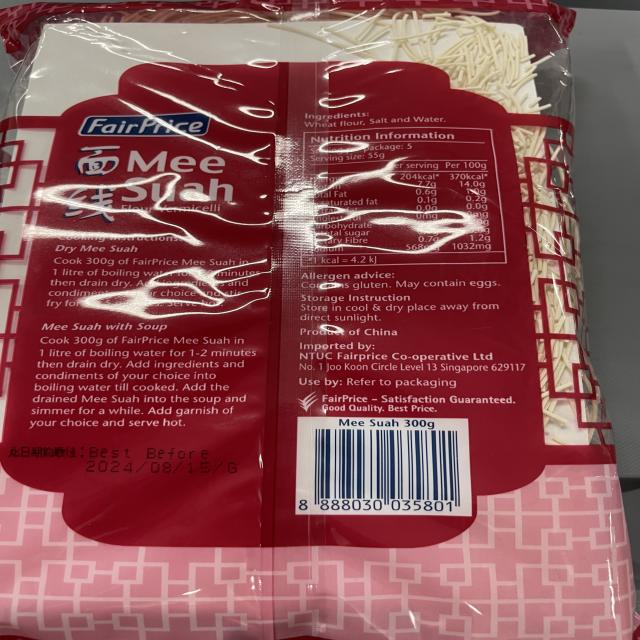object_name: (10, 9, 590, 640)
